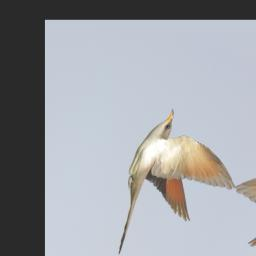Cuckoo: (102, 103, 251, 256)
